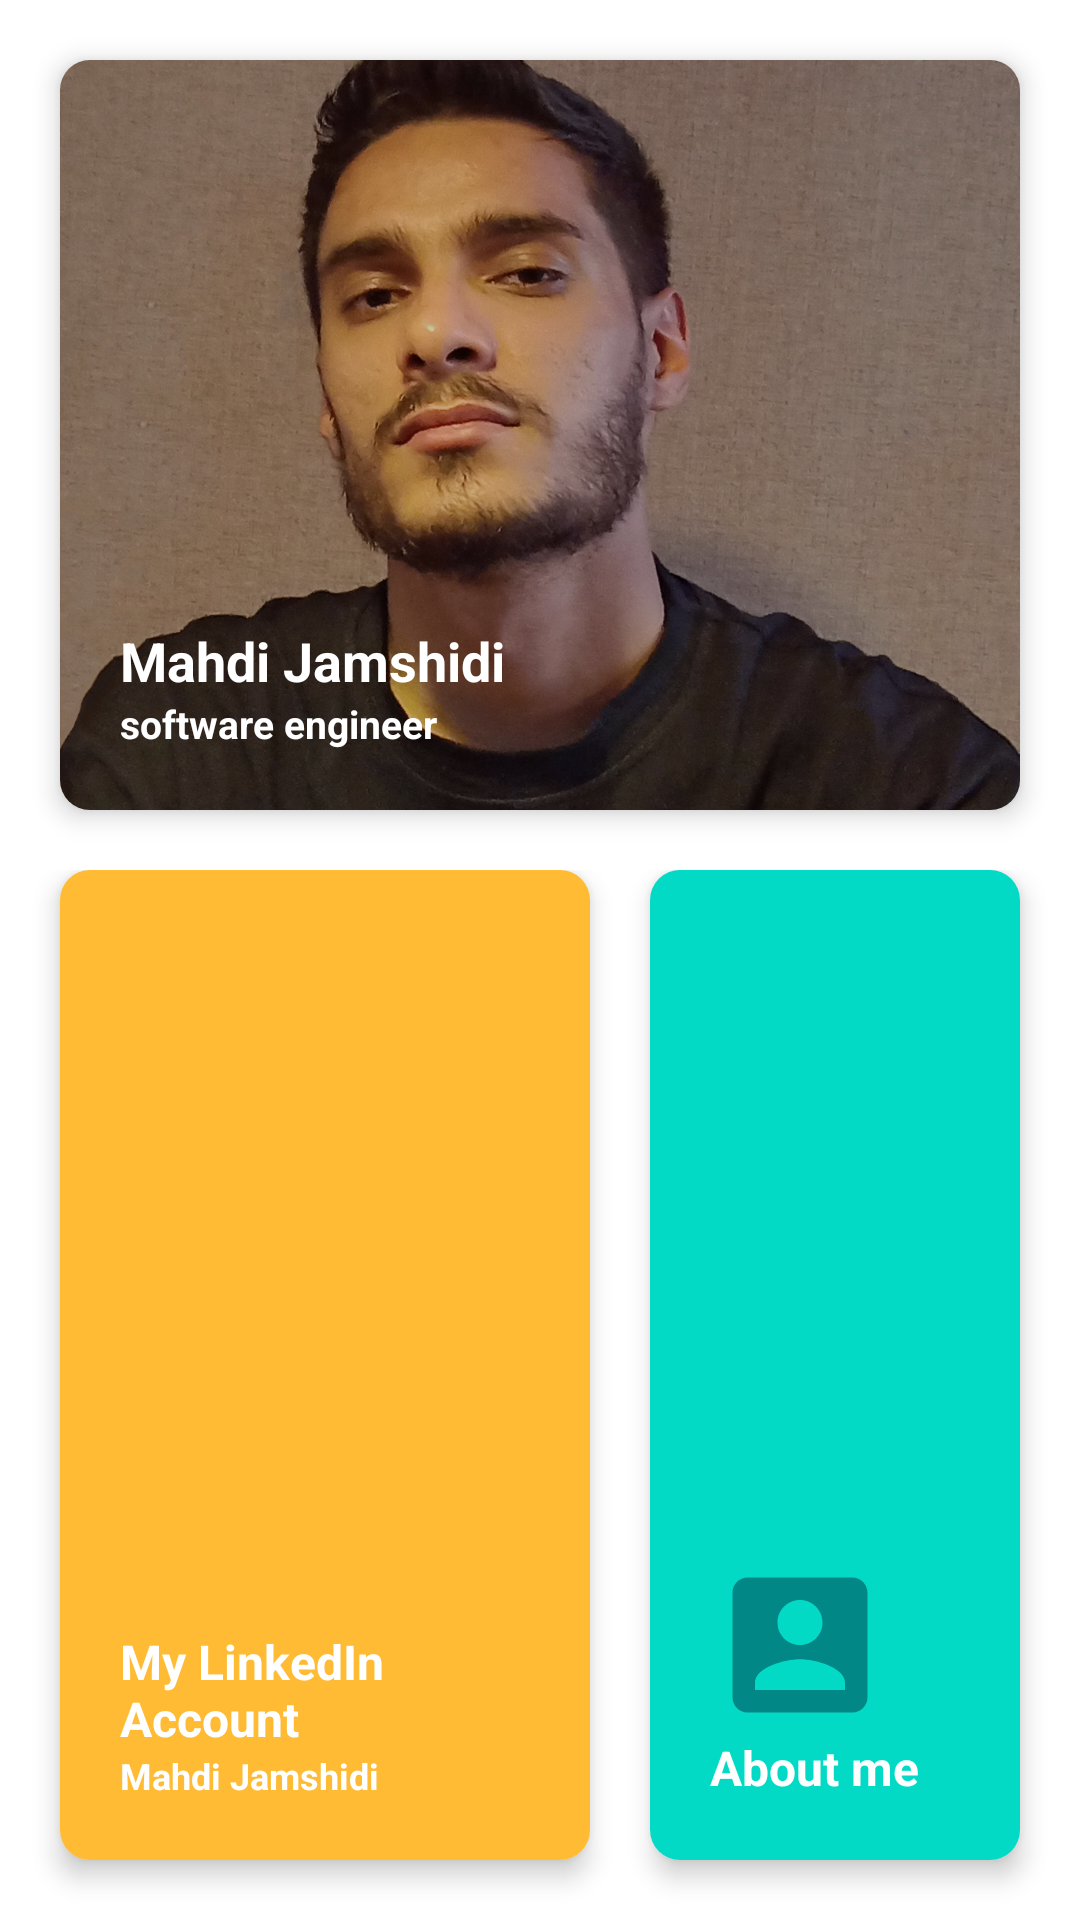

Screen size 1080px×1920px. Icon name, then its box in pixels as (x1, y1, x2, y2):
profile: (732, 1577, 868, 1713)
